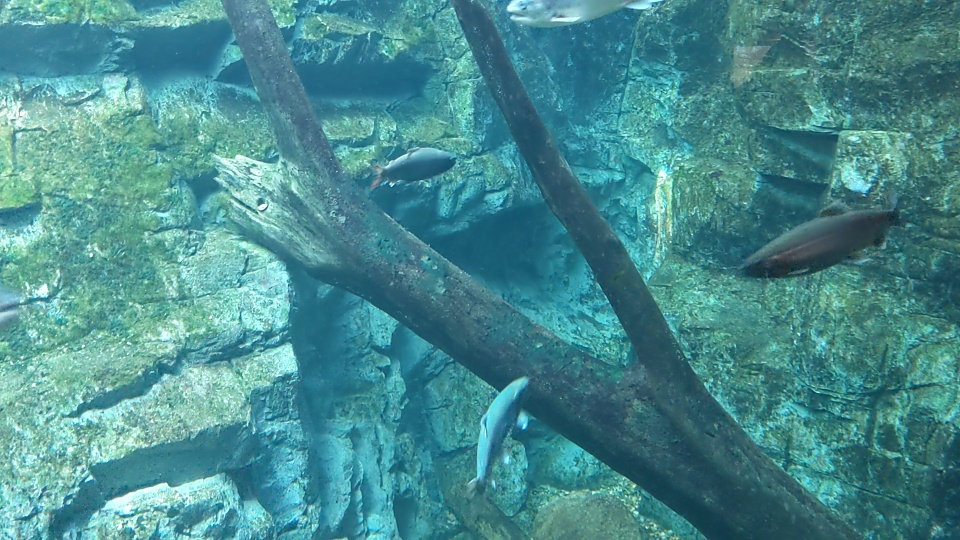Fish: (730, 205, 896, 282), (468, 369, 534, 490), (365, 147, 456, 189)
